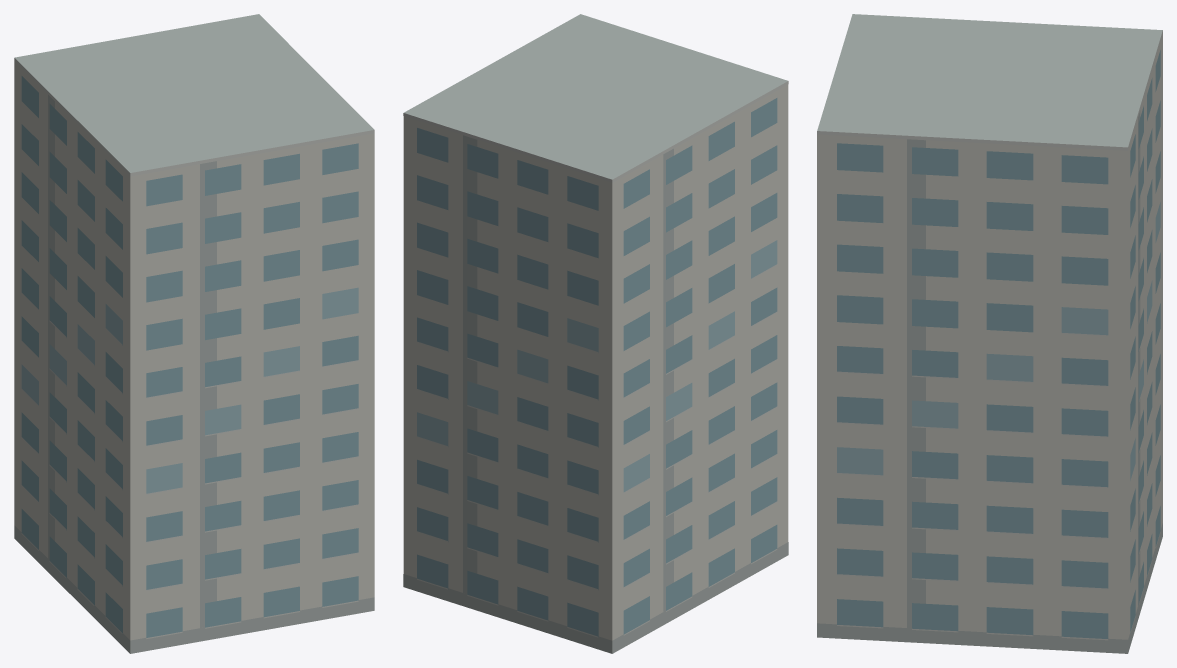
The model's file is residential-c6666d50-8b8f-40c5-8e59-84a429cb059c.glb.
The picture shows the model from 3 angles, left to right: view 1: azimuth 30°, elevation 25°; view 2: azimuth 150°, elevation 25°; view 3: azimuth 270°, elevation 25°; orthographic projection. The views are drawn at different scales.
Visible parts, largest first — view 1: residential-c6666d50-8b8f-40c5-8e59-84a429cb059c.tmp; view 2: residential-c6666d50-8b8f-40c5-8e59-84a429cb059c.tmp; view 3: residential-c6666d50-8b8f-40c5-8e59-84a429cb059c.tmp.
Boxes of the visible parts, x1,y1,x2,y2 form: residential-c6666d50-8b8f-40c5-8e59-84a429cb059c.tmp: (14, 14, 374, 653); residential-c6666d50-8b8f-40c5-8e59-84a429cb059c.tmp: (403, 14, 788, 653); residential-c6666d50-8b8f-40c5-8e59-84a429cb059c.tmp: (817, 14, 1162, 653).
Size of the model in its own units: 19.78 by 35 by 21.66.
